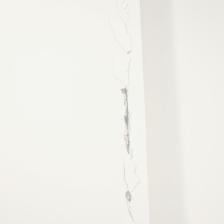High: (104, 1, 157, 224)
